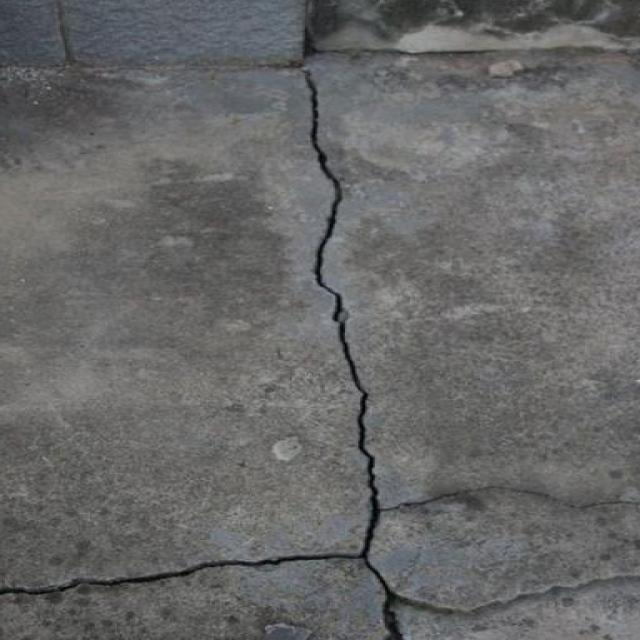Longitudinal: (279, 131, 407, 448)
Network: (267, 460, 490, 640), (239, 0, 392, 125)
Transverse: (3, 530, 259, 604), (502, 464, 636, 525), (510, 574, 640, 611)
